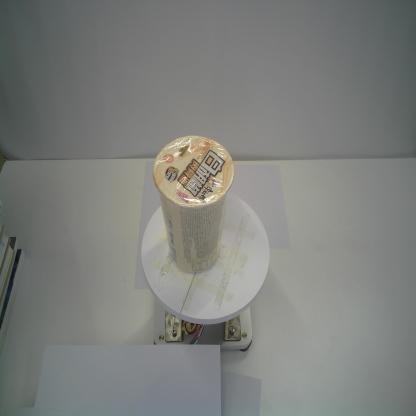Instant Noodles: (152, 134, 235, 274)
